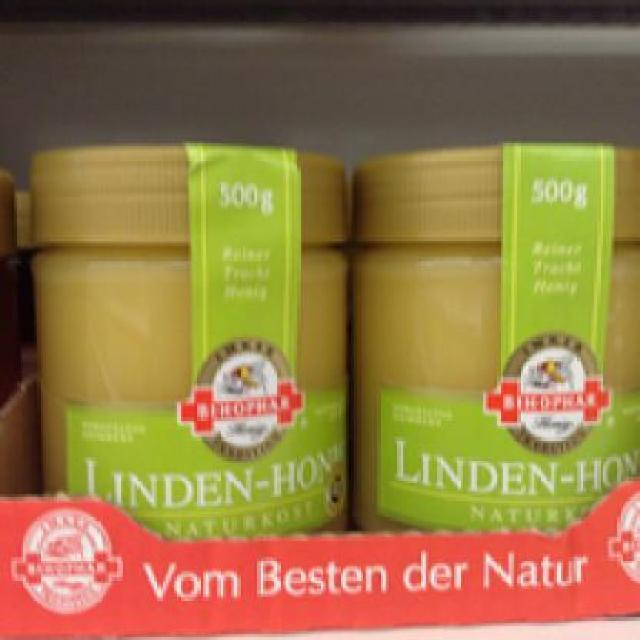Honey: (20, 146, 349, 552), (357, 140, 637, 523)
